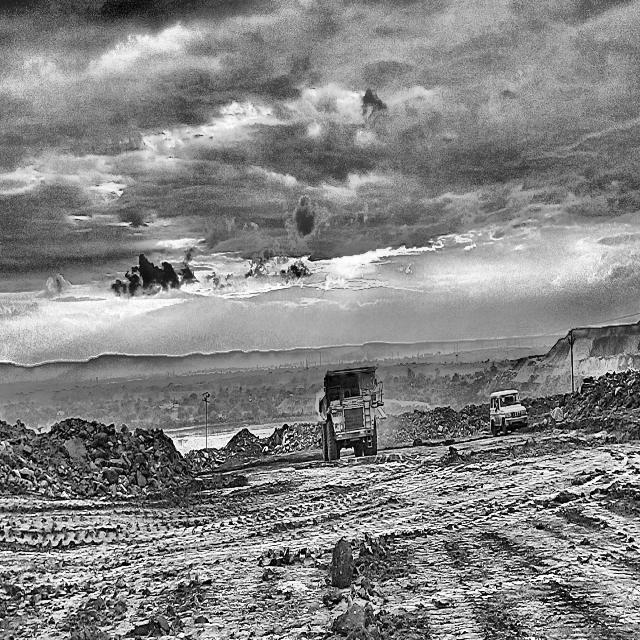dump_truck: (315, 365, 378, 463)
light_vehicle: (490, 391, 528, 436)
